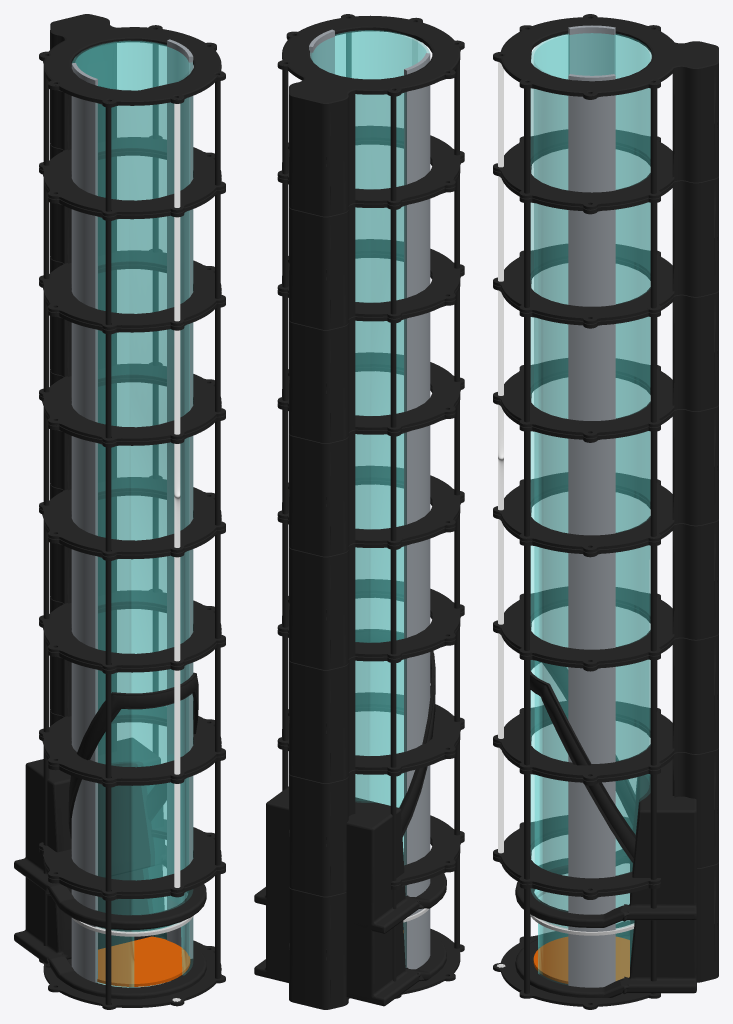
Rendered from elevator.fbx.
The picture shows the model from 3 angles, left to right: view 1: azimuth 30°, elevation 25°; view 2: azimuth 150°, elevation 25°; view 3: azimuth 270°, elevation 25°; orthographic projection.
Visible parts, largest first — view 1: elevator_ground; view 2: elevator_ground; view 3: elevator_ground.
Boxes of the visible parts, x1,y1,x2,y2 form: elevator_ground: (14, 14, 225, 1009); elevator_ground: (254, 14, 464, 1009); elevator_ground: (493, 14, 718, 1009).
Bounding box in the file's own units: 903 × 4701 × 1048.
